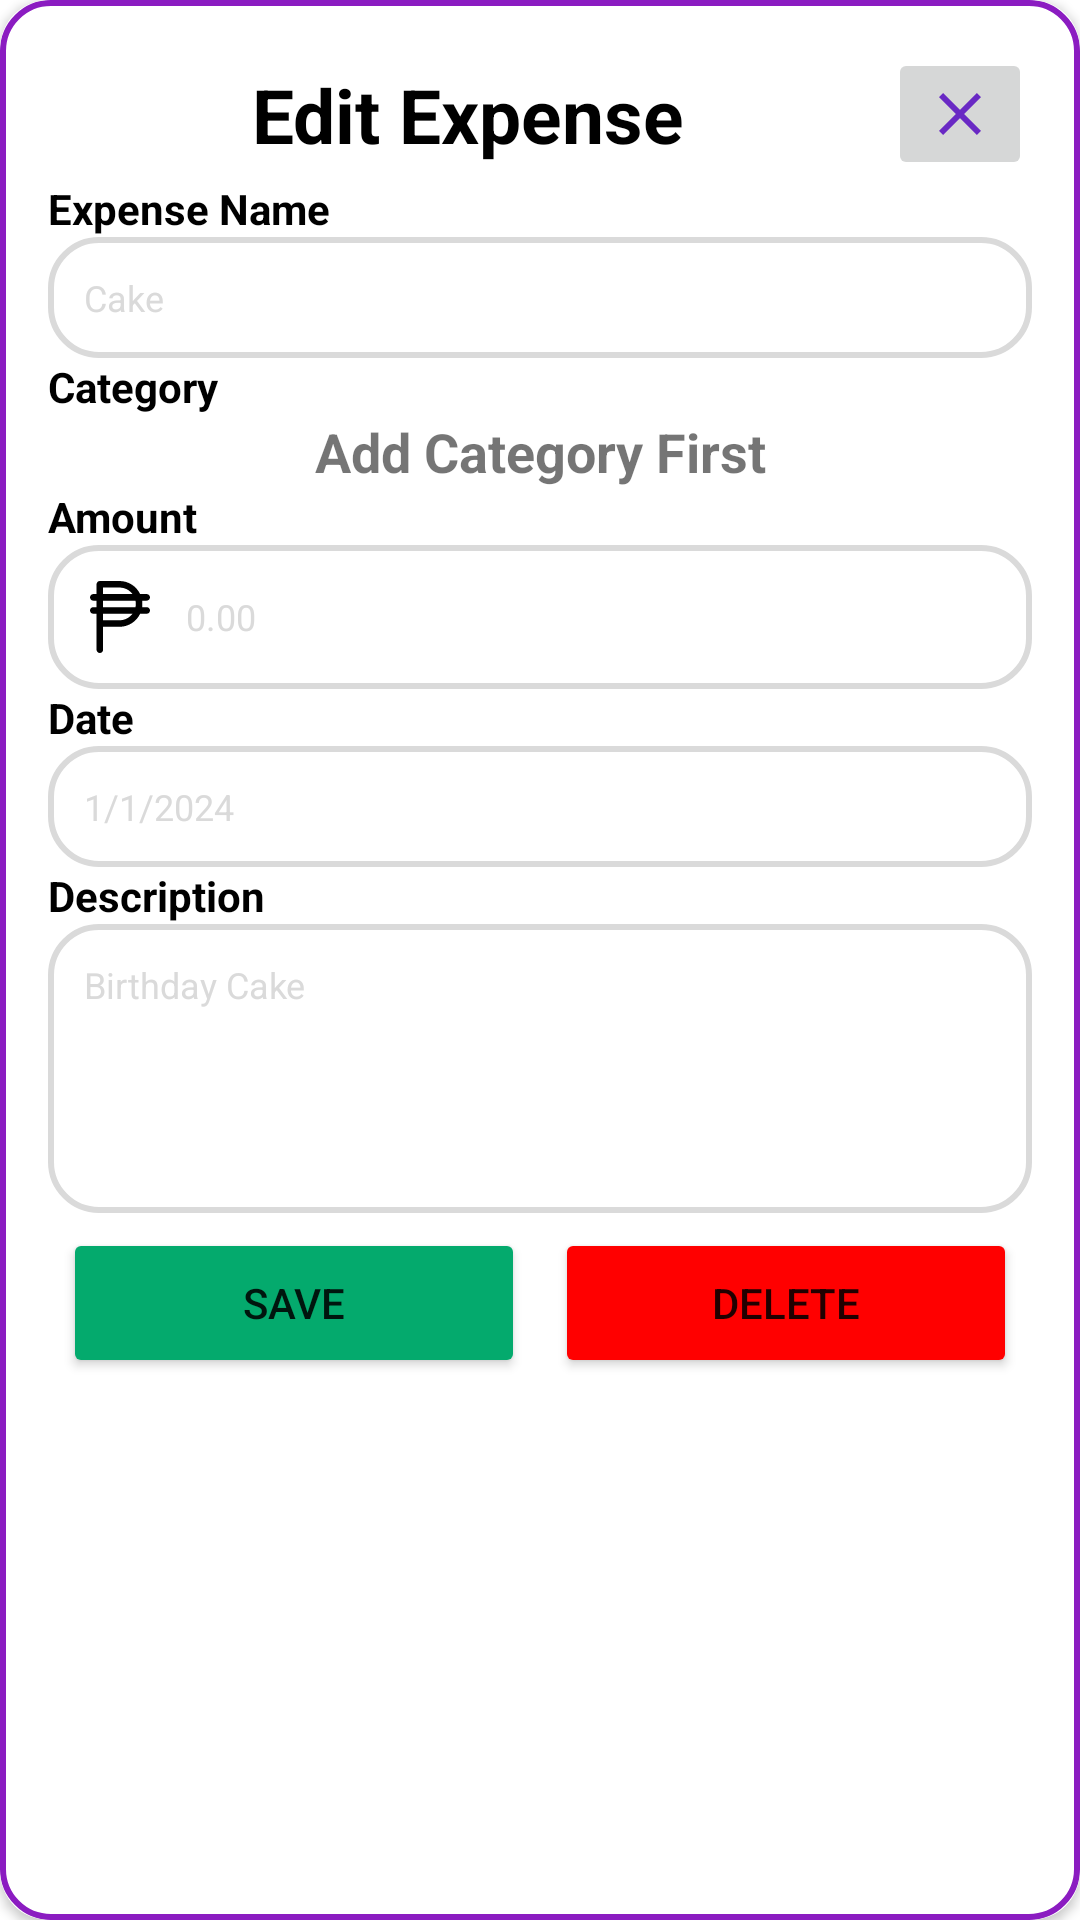

Screen size 1080×1920. Icon name, then its box in pixels as rect(x1, y1, x2, y2):
close: rect(900, 66, 1020, 162)
